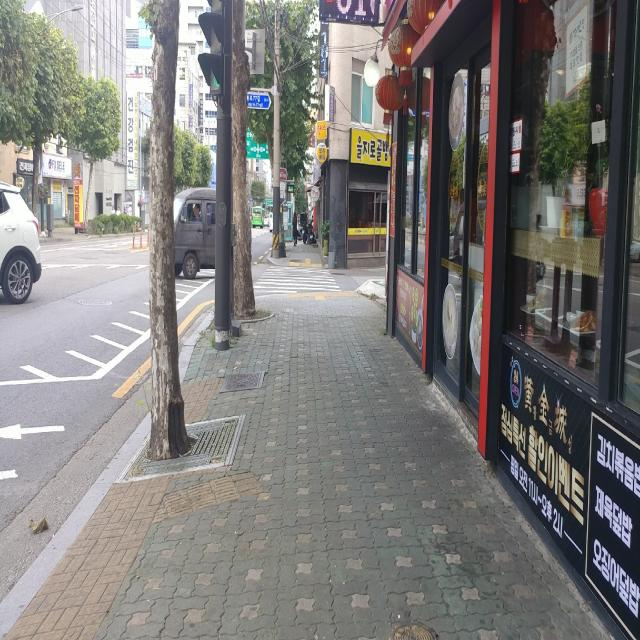횡단보도: (253, 265, 342, 294)
